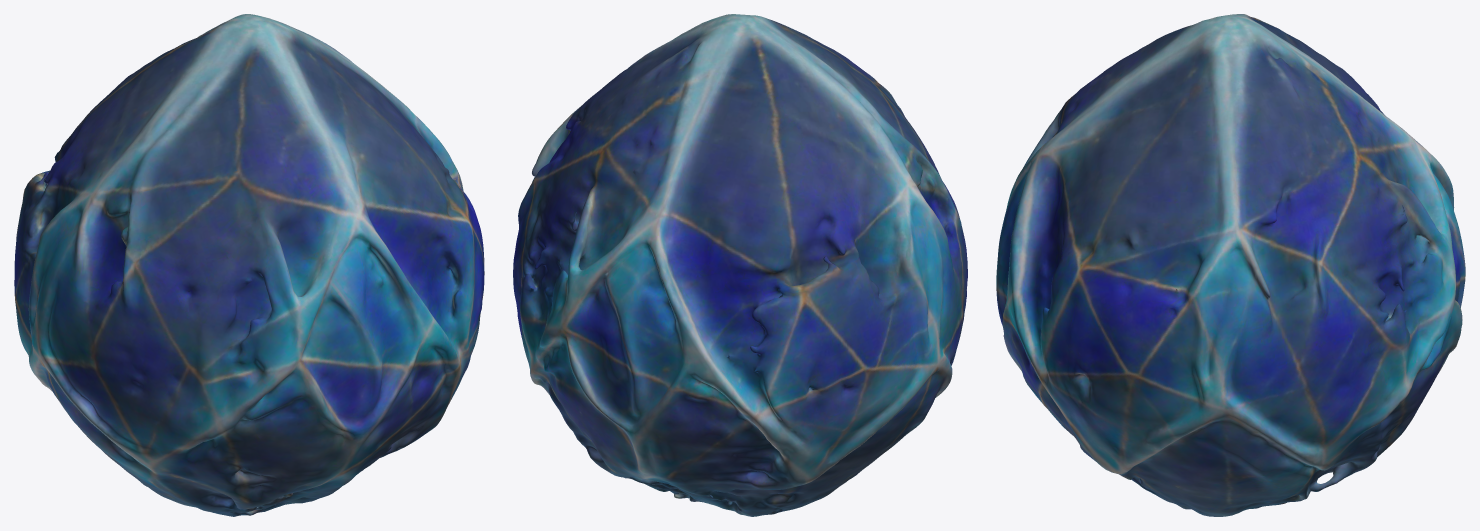
The model's file is 3e009a8229b2_stylised_sapphire_m.fbx.
3 renders of one model, left to right at view 1: azimuth 30°, elevation 25°; view 2: azimuth 150°, elevation 25°; view 3: azimuth 270°, elevation 25°, orthographic.
Parts seen in each view (by area): view 1: high_poly; view 2: high_poly; view 3: high_poly.
Part boxes in pixels (bbox=[...]): high_poly: bbox=[14, 14, 484, 516]; high_poly: bbox=[513, 14, 967, 516]; high_poly: bbox=[996, 14, 1465, 516].
Size of the model in its own units: 88.2 by 100 by 87.52.
